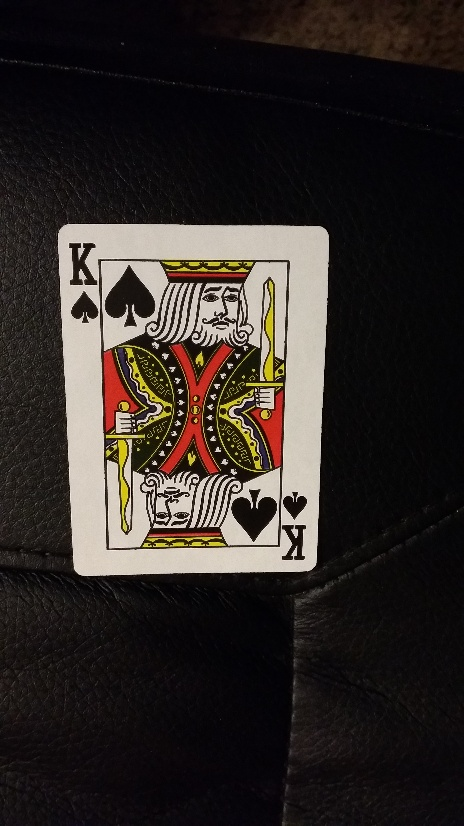Sk: (63, 235, 100, 325), (281, 482, 312, 565)
